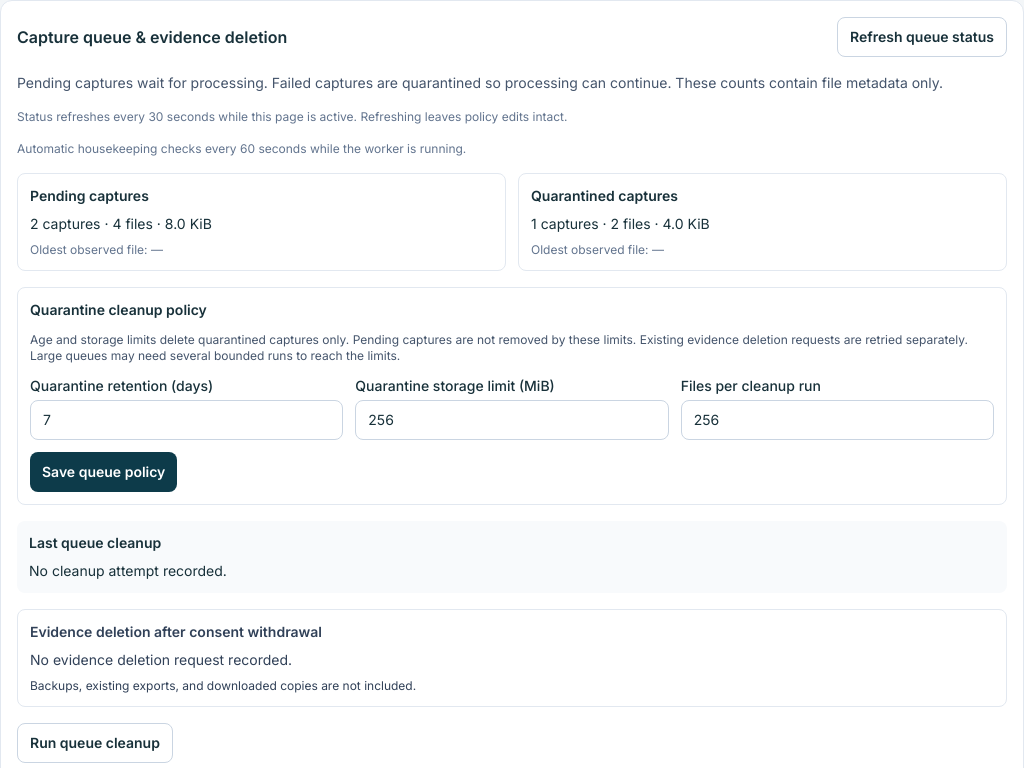
Test: capture queue controls and truthful deletion status › keeps the policy draft and reports a save failure without a success message
Replace the text in the number field labelled "Quarantine retention (days)" with "12" at x=187, y=420, box [30,400,343,440]
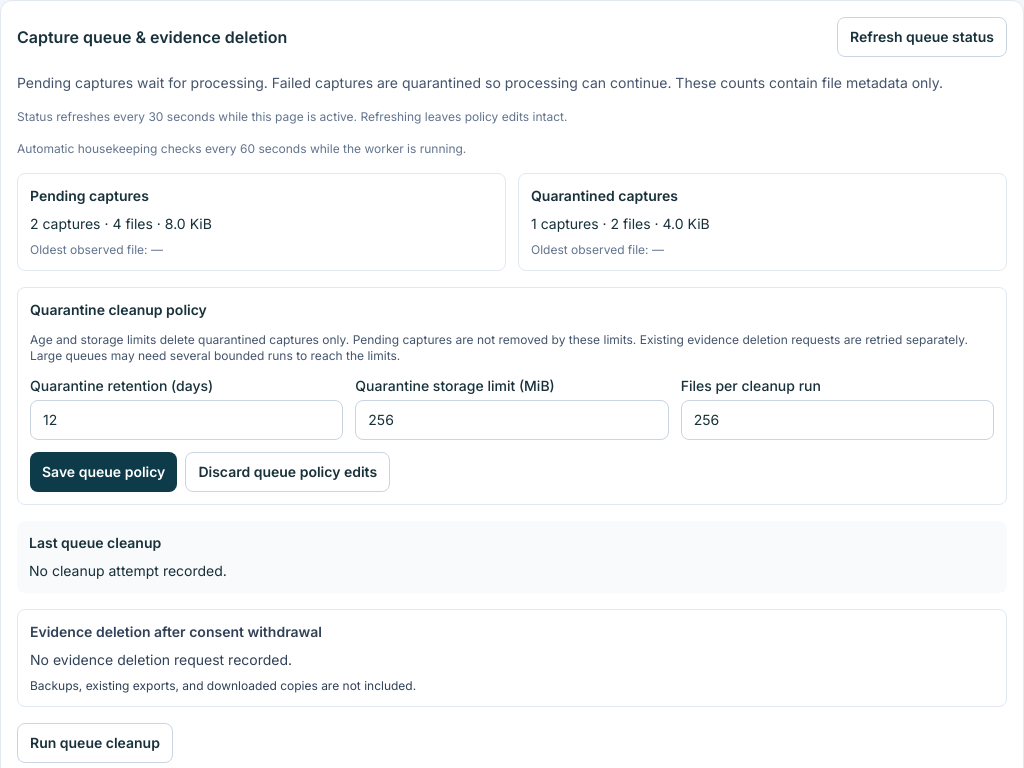
Click the button "Save queue policy" at x=104, y=472, box [30,452,177,492]
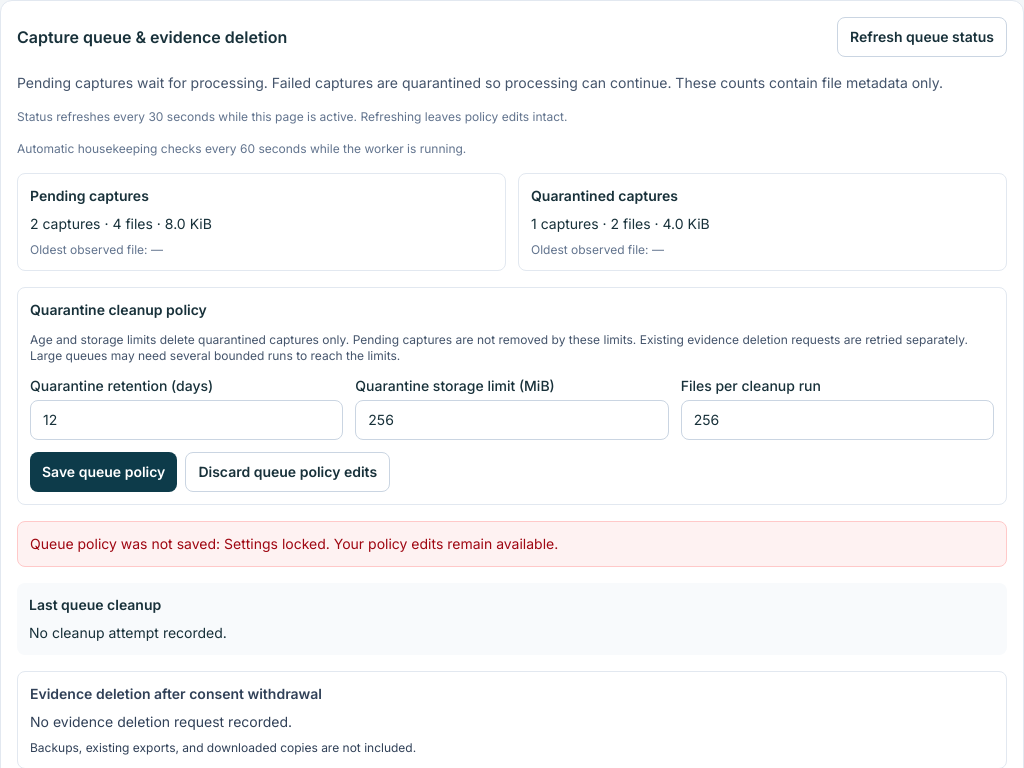
Check: the text "Capture queue policy saved" is not shown
Click the button "Save queue policy" at x=104, y=472, box [30,452,177,492]
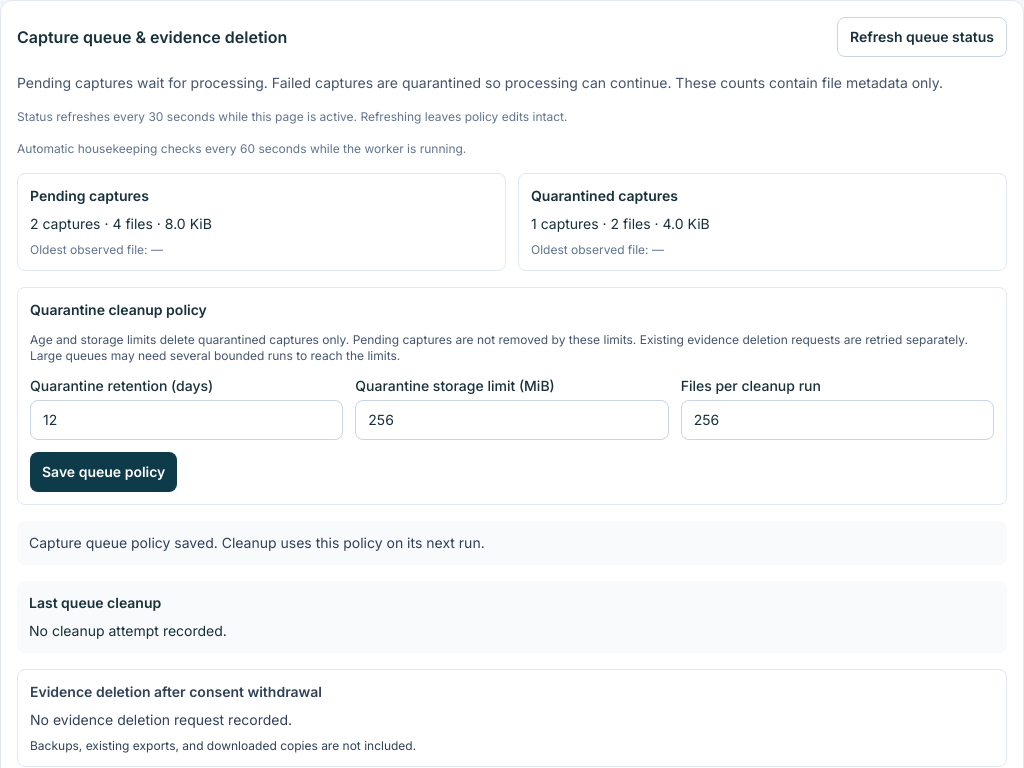
Check: the text "Capture queue policy saved. Cleanup uses this policy on its next run." is shown, box [17,521,1007,565]
